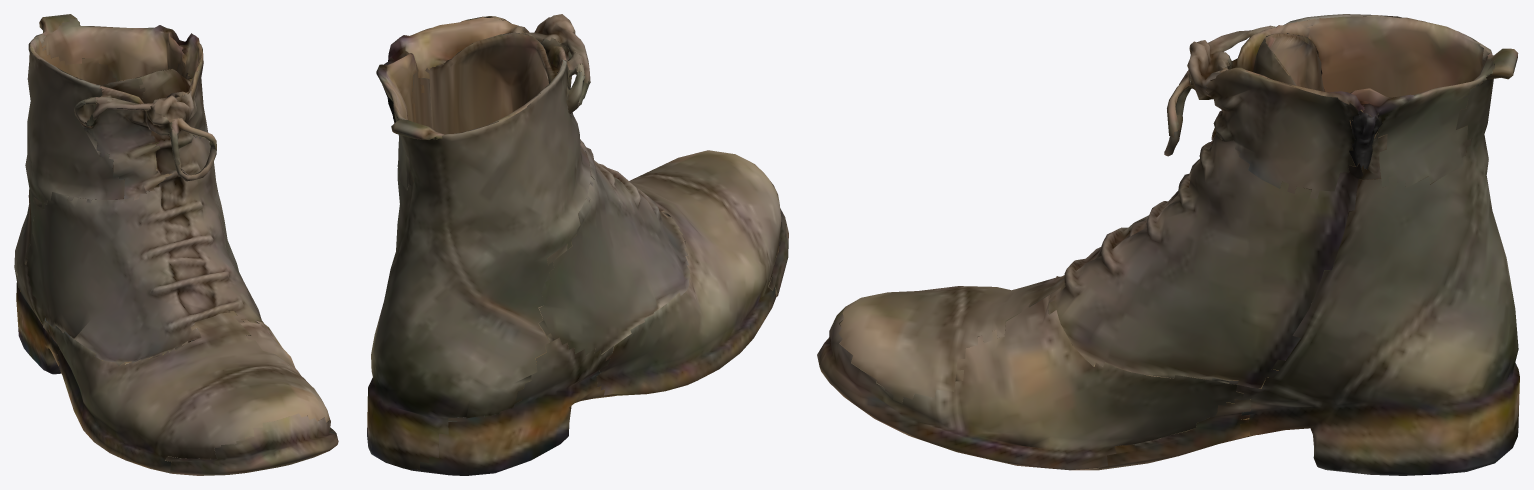
The model's file is ropa_photoscanned_female_ankle_bo.glb.
3 renders of one model, left to right at view 1: azimuth 30°, elevation 25°; view 2: azimuth 150°, elevation 25°; view 3: azimuth 270°, elevation 25°, orthographic. The views are drawn at different scales.
Visible parts, largest first — view 1: Object_2; view 2: Object_2; view 3: Object_2.
Part boxes in pixels (x1=…): Object_2: x1=14, y1=14, x2=338, y2=475; Object_2: x1=367, y1=14, x2=788, y2=475; Object_2: x1=817, y1=14, x2=1519, y2=475.
Size of the model in its own units: 0.1323 by 0.2002 by 0.3174.
1 material, 1 textured.
